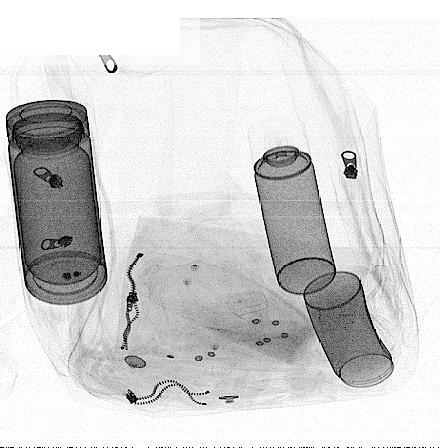Sprayer: (244, 115, 336, 294)
